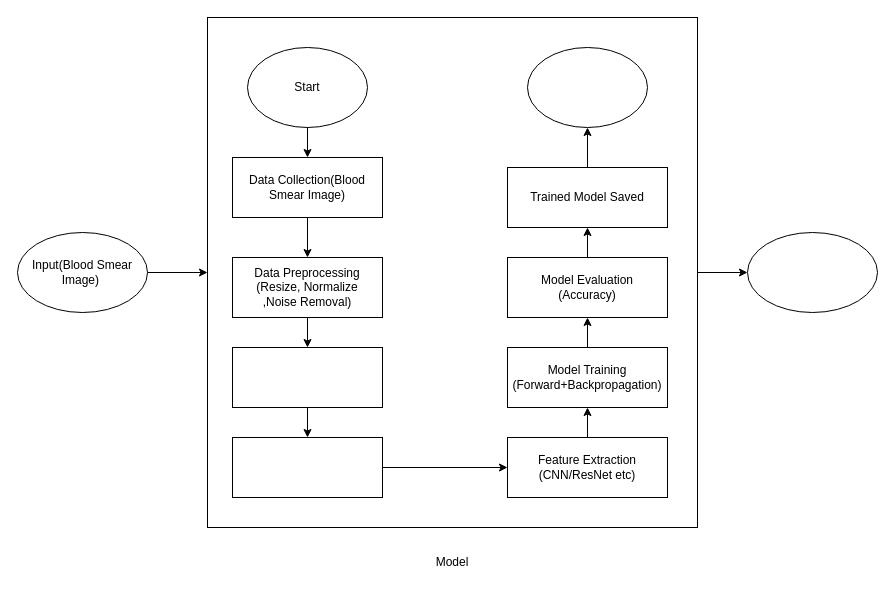
Some shapes in this 895 by 595 pixel diagram are drawn without their labels. The centre of each missing label's shape, as x and y in pixels:
Data Augmentation (Rotation,Flip,Zoom): pixel 307 377
Dataset Splitting (Train, Validation,Testing): pixel 307 467
End: pixel 587 87
OutPut (Normal/ ALL/AML/CLL /CML): pixel 812 272
